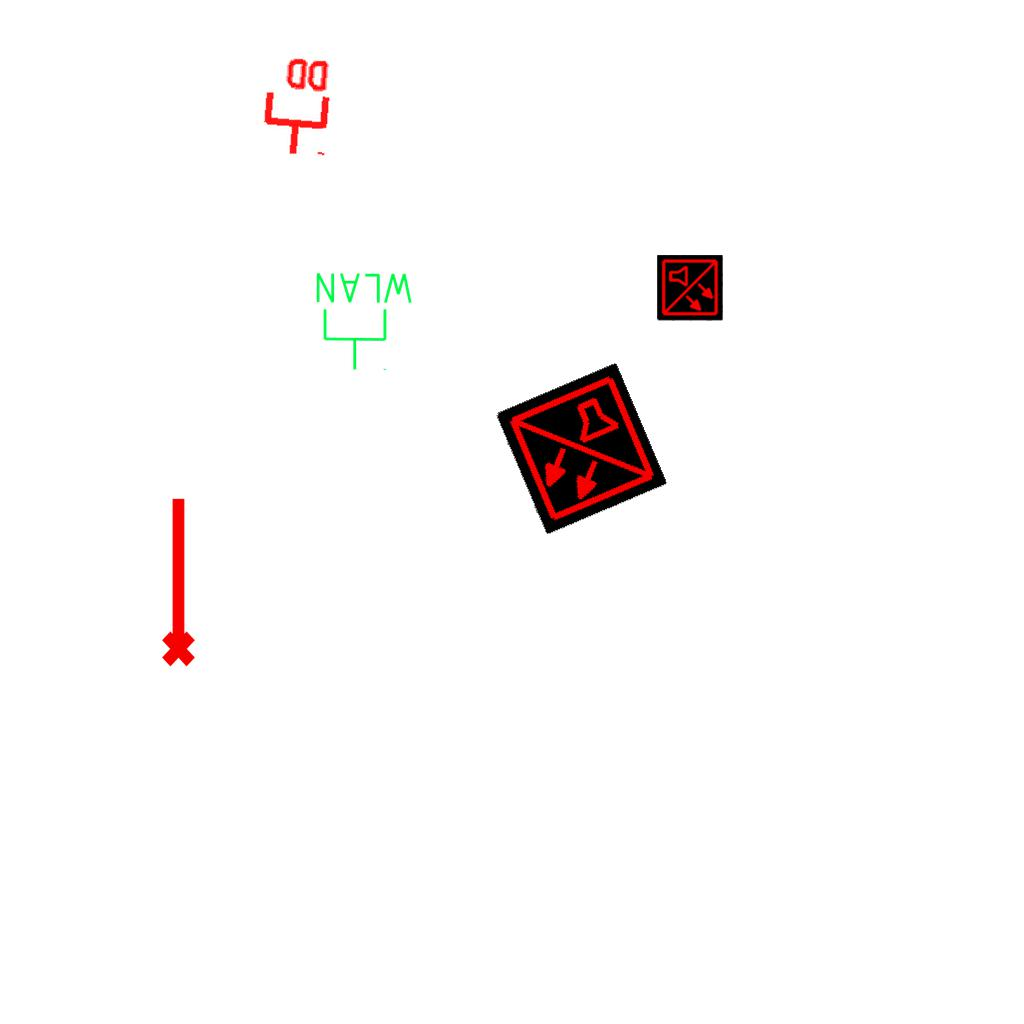ASR_Ansaugoeffnung: (153, 493, 199, 669)
Datenanschluss_zweifach: (256, 51, 335, 160)
OKW_Multisensormelder_(Kombination_optischer_Rauch-Kahlenmonoxid_Waerme-Melder): (494, 362, 668, 536), (657, 255, 723, 321)
WLAN: (312, 269, 417, 373)
